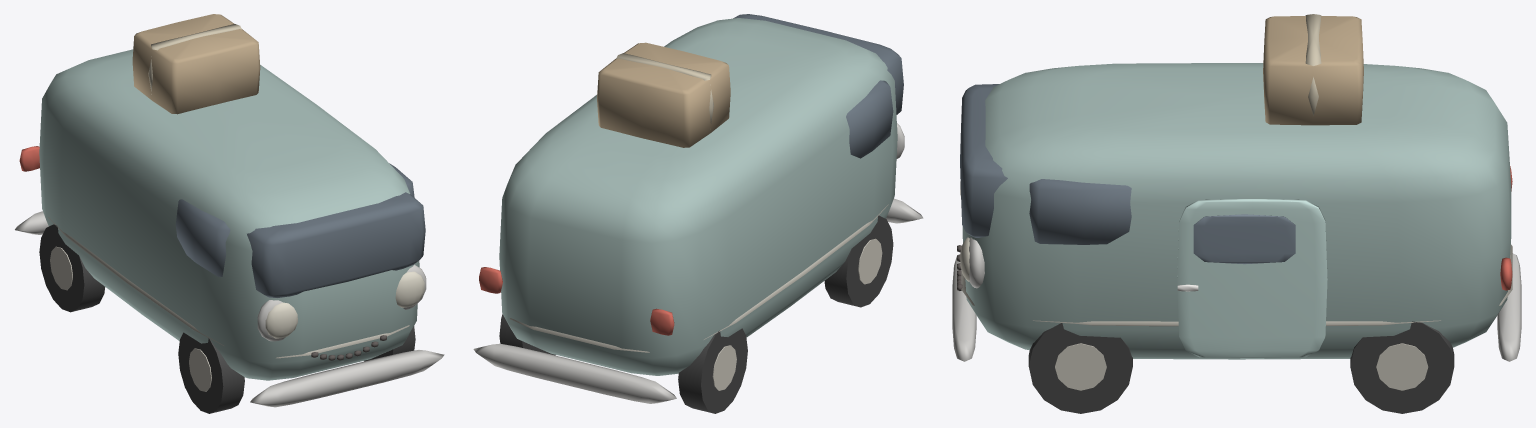
File: delivery_van.glb
3 renders of one model, left to right at view 1: azimuth 30°, elevation 25°; view 2: azimuth 150°, elevation 25°; view 3: azimuth 270°, elevation 25°, orthographic. The views are drawn at different scales.
Visible parts, largest first — view 1: Part0; view 2: Part0; view 3: Part0, Part1.
Boxes of the visible parts, box(x1,y1,x2,y2) form: Part0: box(15, 14, 444, 413); Part0: box(473, 14, 923, 413); Part0: box(952, 14, 1521, 413); Part1: box(1177, 199, 1327, 358).
Size of the model in its own units: 1.84 by 2.33 by 3.72.
